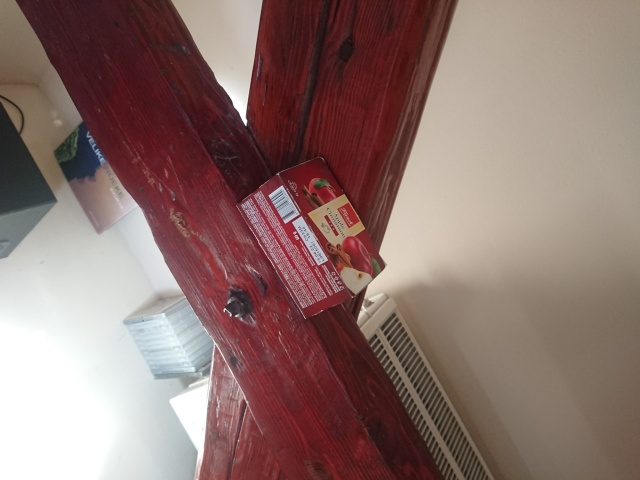Franck Apple Cinnamon Tea 60g: (232, 153, 389, 321)
